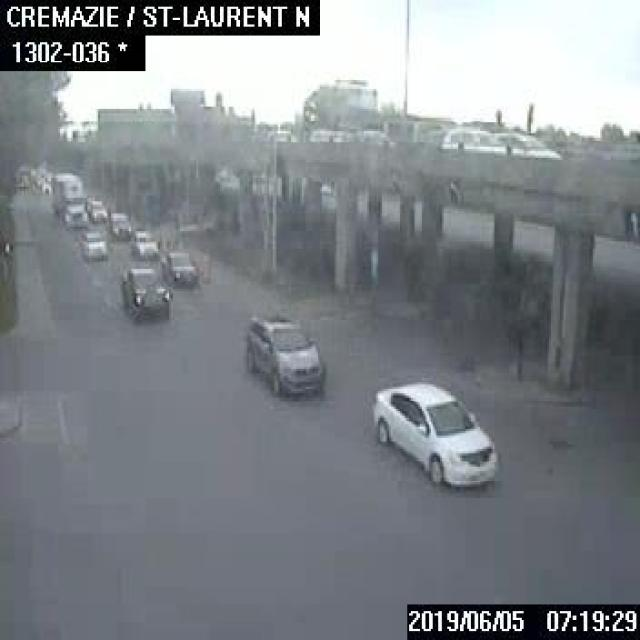vehicle: (369, 376, 496, 486), (242, 311, 324, 396), (119, 262, 174, 324), (50, 172, 89, 228), (438, 124, 503, 152), (493, 130, 558, 156), (161, 248, 199, 286), (130, 227, 160, 262), (77, 228, 107, 260), (106, 208, 132, 240), (349, 130, 392, 145), (86, 194, 108, 222)
